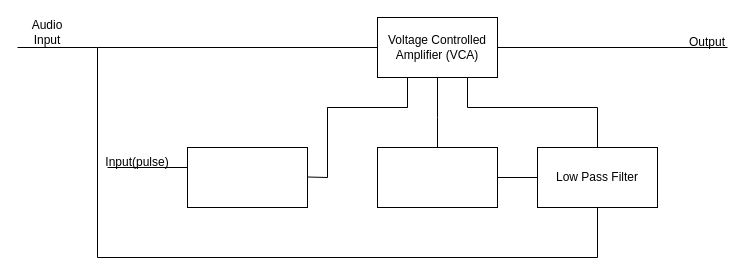
The diagram is 755 pixels wide and 276 high, and some of its shapes have lost their labels. Each missing label, with the centre of its shape:
Envelop Generator (EG): pixel 247 177
Oscillator: pixel 437 177
